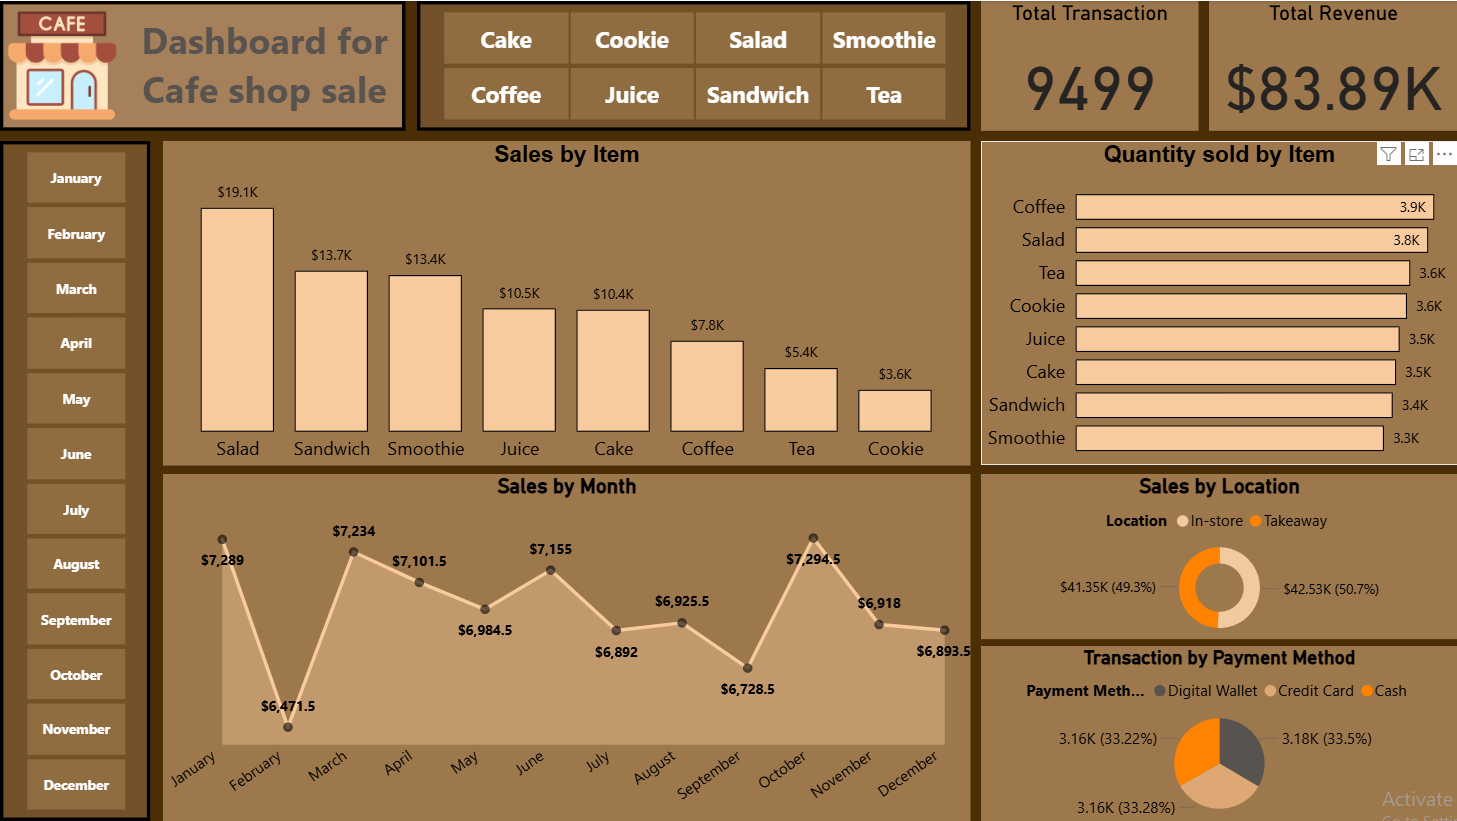

This screenshot's page, from the dashboard's own definition file:
{"tool":"powerbi","page":{"name":"Page 1","canvas":[1280,720],"ordinal":0},"visuals":[{"type":"card","title":"Total Revenue","fields":{"Values":["Sum(dirty_cafe_sales.Total Spent)"]},"box":[1061.2,0,218.8,113.8],"z":0},{"type":"clusteredColumnChart","title":"Sales by Item","fields":{"Category":["dirty_cafe_sales.Item"],"Y":["Sum(dirty_cafe_sales.Total Spent)"]},"box":[143.1,122.9,709.5,285.4],"z":1000},{"type":"pieChart","title":"Transaction by Payment Method","fields":{"Category":["dirty_cafe_sales.Payment Method"],"Y":["CountNonNull(dirty_cafe_sales.Transaction ID)"]},"box":[861.4,566.3,418.8,153.7],"z":2000},{"type":"lineChart","title":"Sales by Month","fields":{"Y":["Sum(dirty_cafe_sales.Total Spent)"],"Category":["dirty_cafe_sales.Transaction Date.Variation.Date Hierarchy.Month"]},"box":[143.1,415.3,709.5,304.7],"z":3000},{"type":"donutChart","title":"Sales by Location","fields":{"Category":["dirty_cafe_sales.Location"],"Y":["Sum(dirty_cafe_sales.Total Spent)"]},"box":[861.4,415.3,418.8,144.9],"z":4000},{"type":"card","title":"Total Transaction","fields":{"Values":["CountNonNull(dirty_cafe_sales.Transaction ID)"]},"box":[861.4,0,191.4,114.1],"z":5000},{"type":"slicer","fields":{"Values":["dirty_cafe_sales.Transaction Date.Variation.Date Hierarchy.Month"]},"box":[0,122.9,131.7,597.1],"z":6000},{"type":"shape","box":[0,0,356,113.8],"z":7000},{"type":"image","box":[0,0,108.9,113.8],"z":8000},{"type":"textbox","box":[108.9,11.7,247.1,92.4],"z":9000},{"type":"slicer","fields":{"Values":["cafe_sales.Item"]},"box":[366.1,0,486.4,114.1],"z":10000},{"type":"barChart","title":"Quantity sold by Item","fields":{"Category":["cafe_sales.Item"],"Y":["Sum(cafe_sales.Quantity)"]},"box":[861.4,122.9,418.8,284.5],"z":11000}]}

Visuals, with their boxes in screenshot pixels (x1, y1, x2, y2), scaled from the page's 1280x720 canvas onto the 1457x821 screenshot:
"Total Revenue" card: x1=1208, y1=0, x2=1456, y2=130
"Sales by Item" clusteredColumnChart: x1=163, y1=140, x2=970, y2=466
"Transaction by Payment Method" pieChart: x1=981, y1=646, x2=1456, y2=820
"Sales by Month" lineChart: x1=163, y1=474, x2=970, y2=820
"Sales by Location" donutChart: x1=981, y1=474, x2=1456, y2=639
"Total Transaction" card: x1=981, y1=0, x2=1198, y2=130
slicer - dirty_cafe_sales.Transaction Date.Variation.Date Hierarchy.Month: x1=0, y1=140, x2=150, y2=820
shape: x1=0, y1=0, x2=405, y2=130
image: x1=0, y1=0, x2=124, y2=130
textbox: x1=124, y1=13, x2=405, y2=119
slicer - cafe_sales.Item: x1=417, y1=0, x2=970, y2=130
"Quantity sold by Item" barChart: x1=981, y1=140, x2=1456, y2=465
